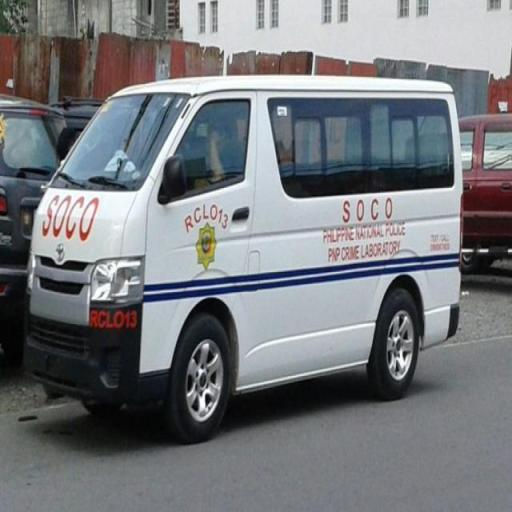Ambulance: (23, 75, 465, 438)
